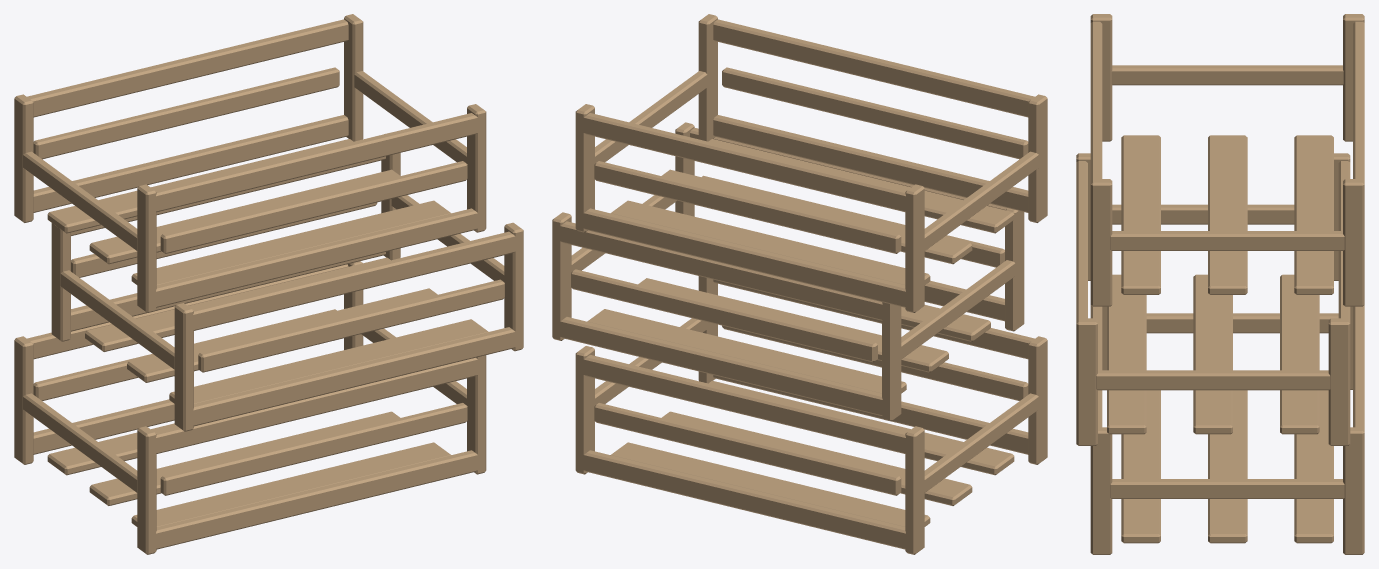
The model's file is bakery-and-cafe-bread-crate-stack-24c57a2c__22172.glb.
The picture shows the model from 3 angles, left to right: view 1: azimuth 30°, elevation 25°; view 2: azimuth 150°, elevation 25°; view 3: azimuth 270°, elevation 25°; orthographic projection. The views are drawn at different scales.
Parts seen in each view (by area): view 1: bread-crate-stack; view 2: bread-crate-stack; view 3: bread-crate-stack.
Part boxes in pixels (left/top/right/bottom): bread-crate-stack: left=14, top=14, right=523, bottom=554; bread-crate-stack: left=552, top=14, right=1047, bottom=554; bread-crate-stack: left=1076, top=14, right=1364, bottom=554.
Bounding box in the file's own units: 0.61 × 0.57 × 0.4.
